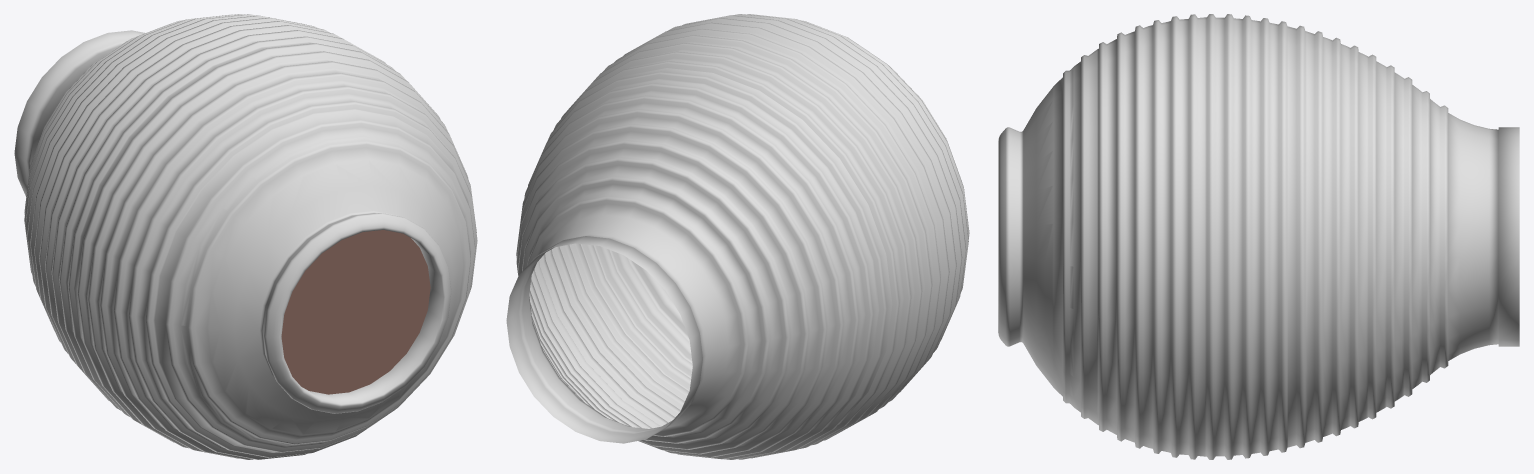
3 views of the same model, side by side, from view 1: azimuth 30°, elevation 25°; view 2: azimuth 150°, elevation 25°; view 3: azimuth 270°, elevation 25° (orthographic). The views are drawn at different scales.
Parts seen in each view (by area): view 1: ID19-4, ID19-0, ID5-0, ID19-2; view 2: ID19-4, ID19-2; view 3: ID19-4, ID19-0, ID19-2.
Boxes of the visible parts, <box> form: ID19-4: <box>24,14,477,459</box>; ID19-0: <box>195,148,466,439</box>; ID5-0: <box>281,230,430,394</box>; ID19-2: <box>14,30,145,196</box>; ID19-4: <box>516,14,969,459</box>; ID19-2: <box>506,236,702,443</box>; ID19-4: <box>1063,14,1498,459</box>; ID19-0: <box>998,77,1062,396</box>; ID19-2: <box>1498,127,1519,346</box>.
Size of the model in its own units: 19.61 by 19.61 by 22.83.
